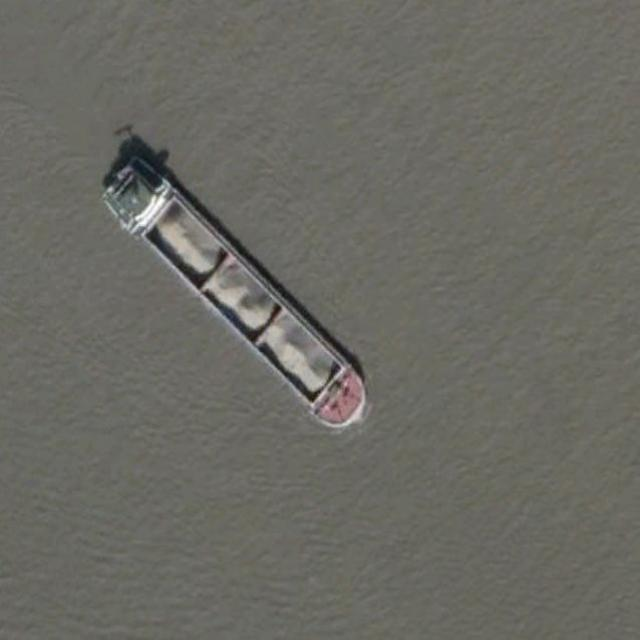ship: (98, 144, 367, 432)
